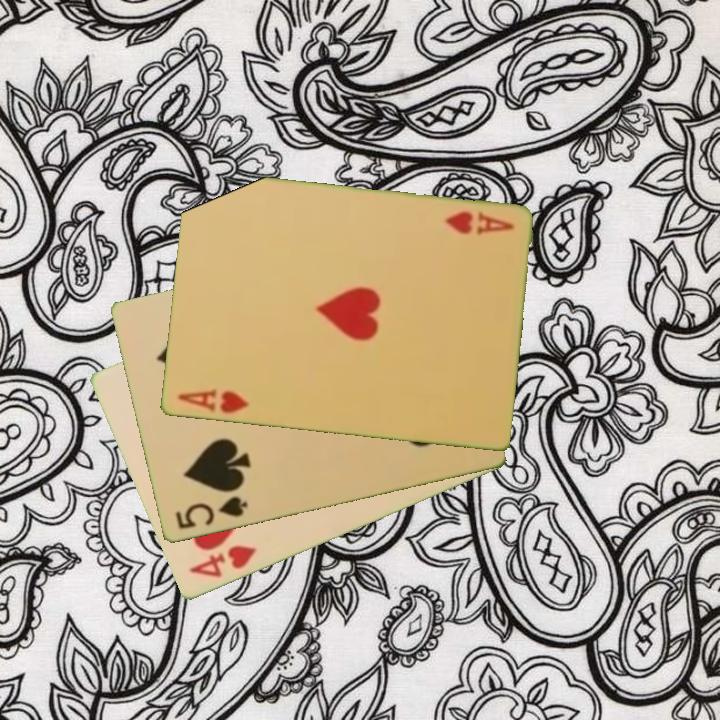4h: (185, 542, 259, 581)
5s: (171, 493, 250, 533)
Ah: (174, 385, 252, 417), (440, 208, 516, 239)
